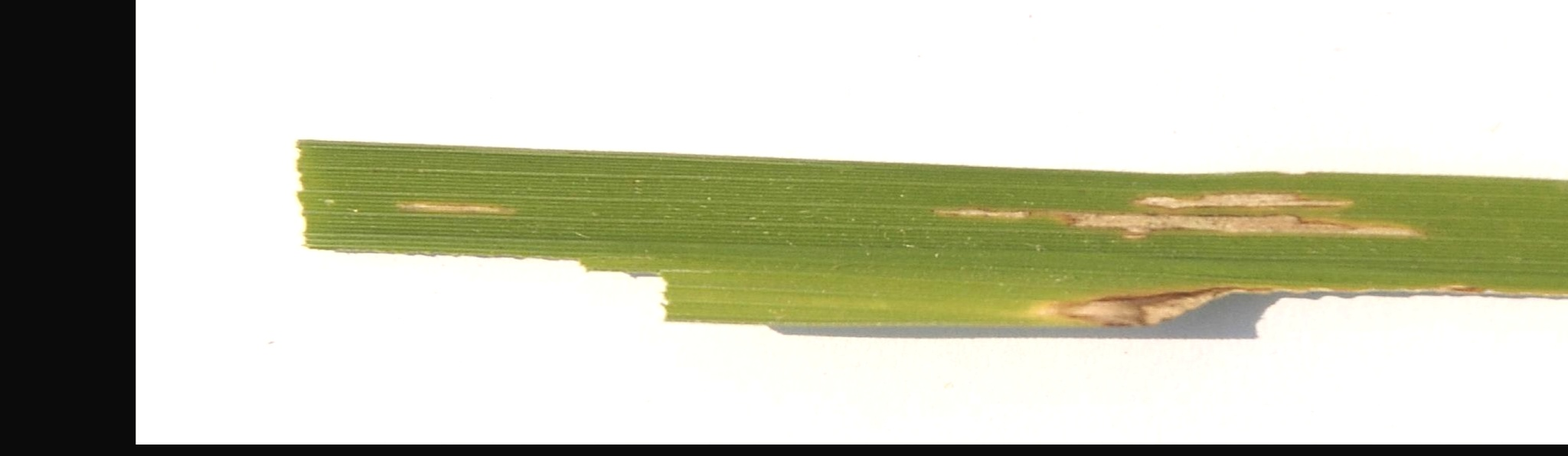Leaf_Blast: (865, 175, 1454, 252), (339, 170, 554, 241)
